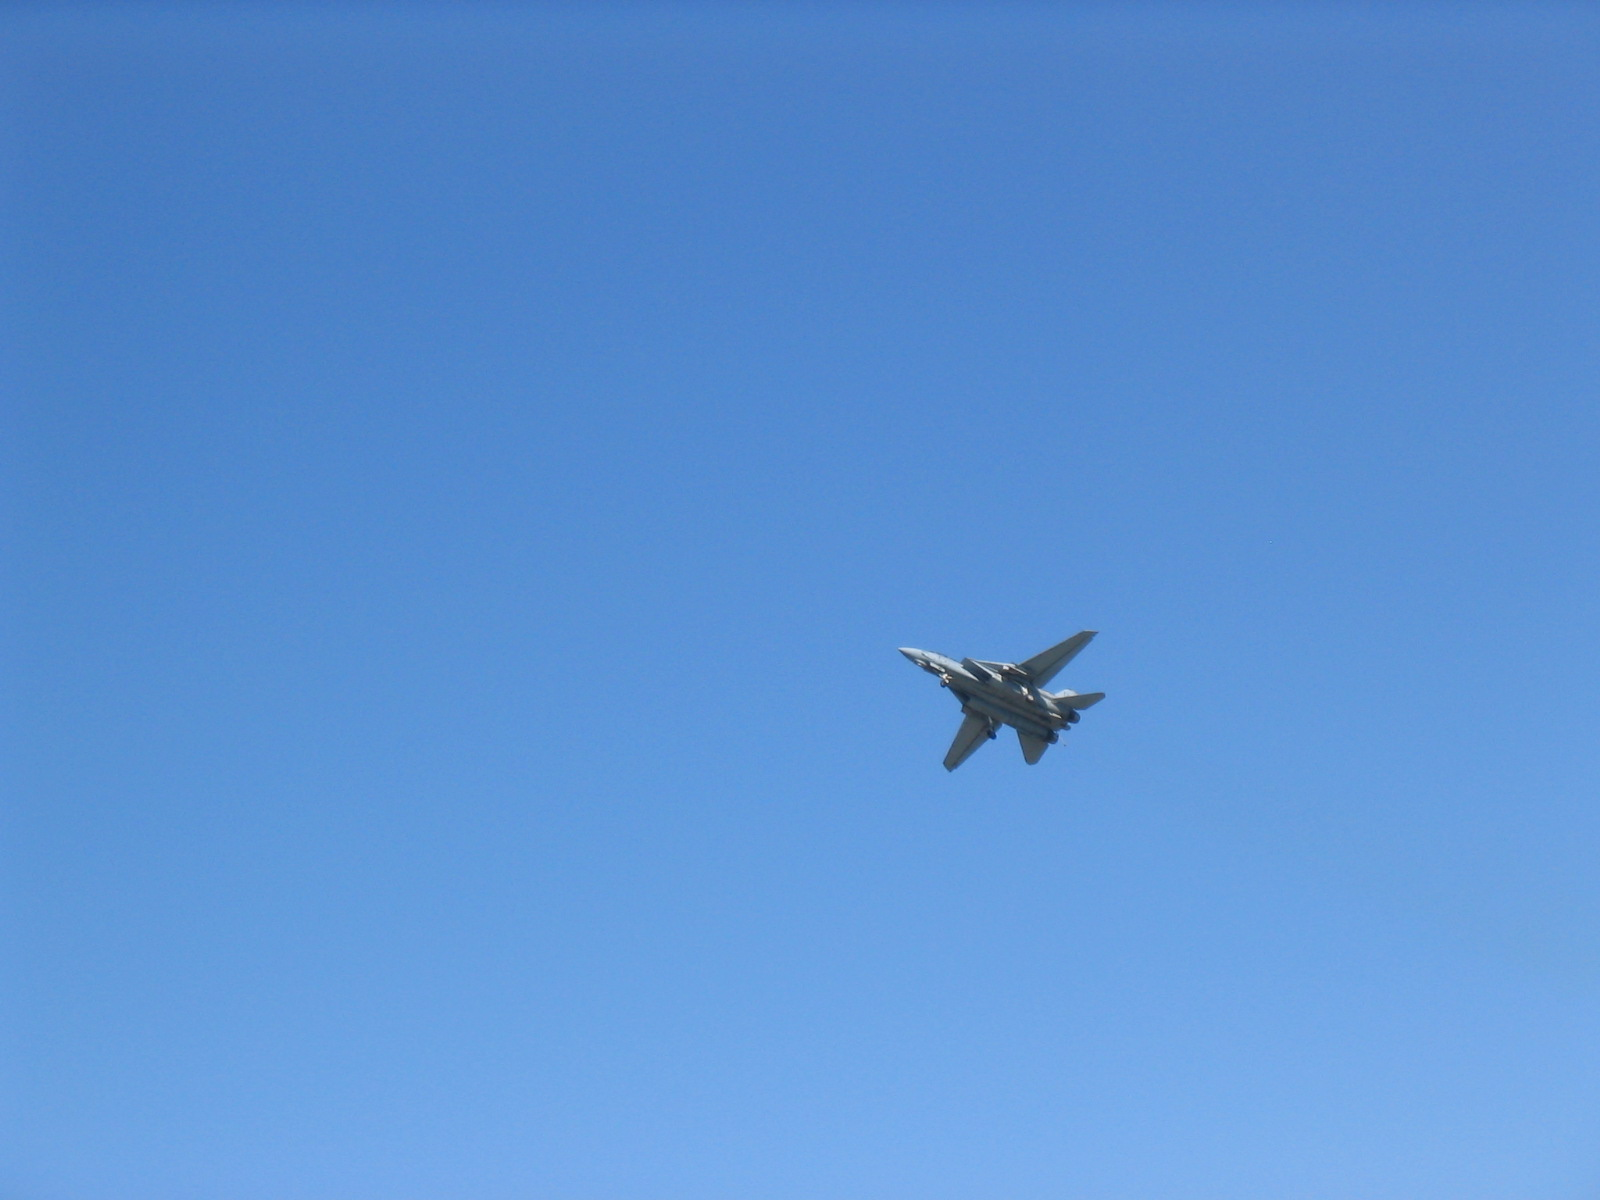F14: (896, 630, 1106, 773)
